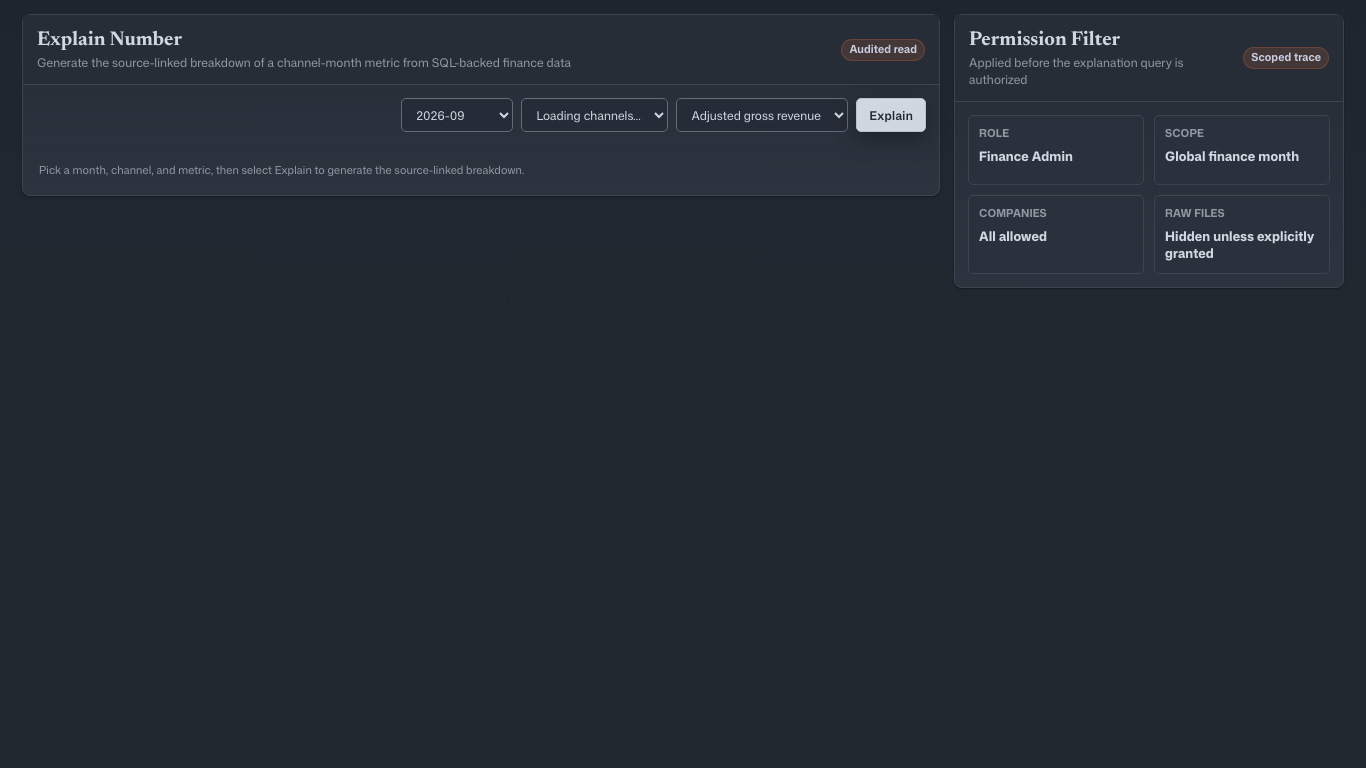
TraceView wired to the explain endpoint › renders a real-shaped NET explanation: value, formula, component split, confidence, and warnings
The image size is (1366, 768).
Note: Select the net metric, then Explain.
Select "Net revenue" in the dropdown named "Metric": (762, 115) [676,98,848,132]
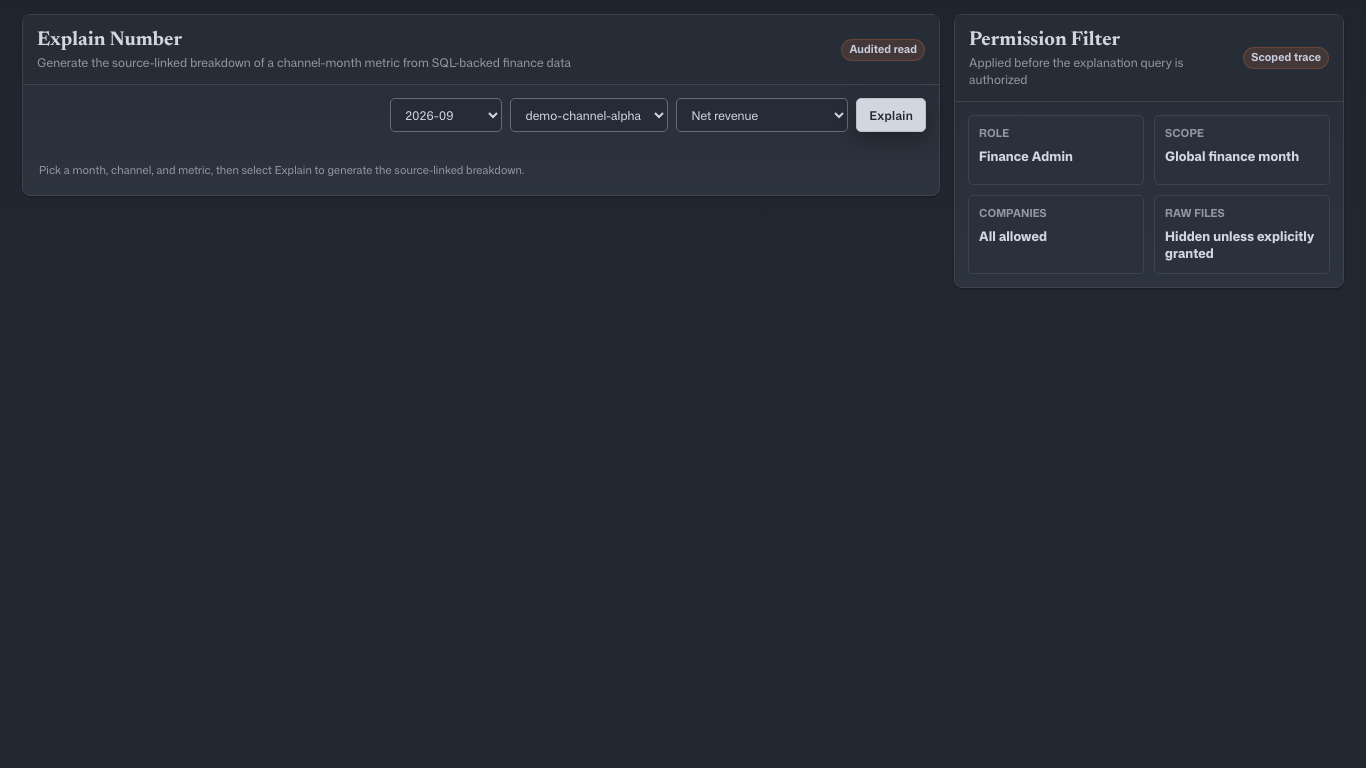
Note: Wait for the button to enable (channel list resolved) before clicking.
Click the button "Explain": click(891, 115) [856,98,926,132]
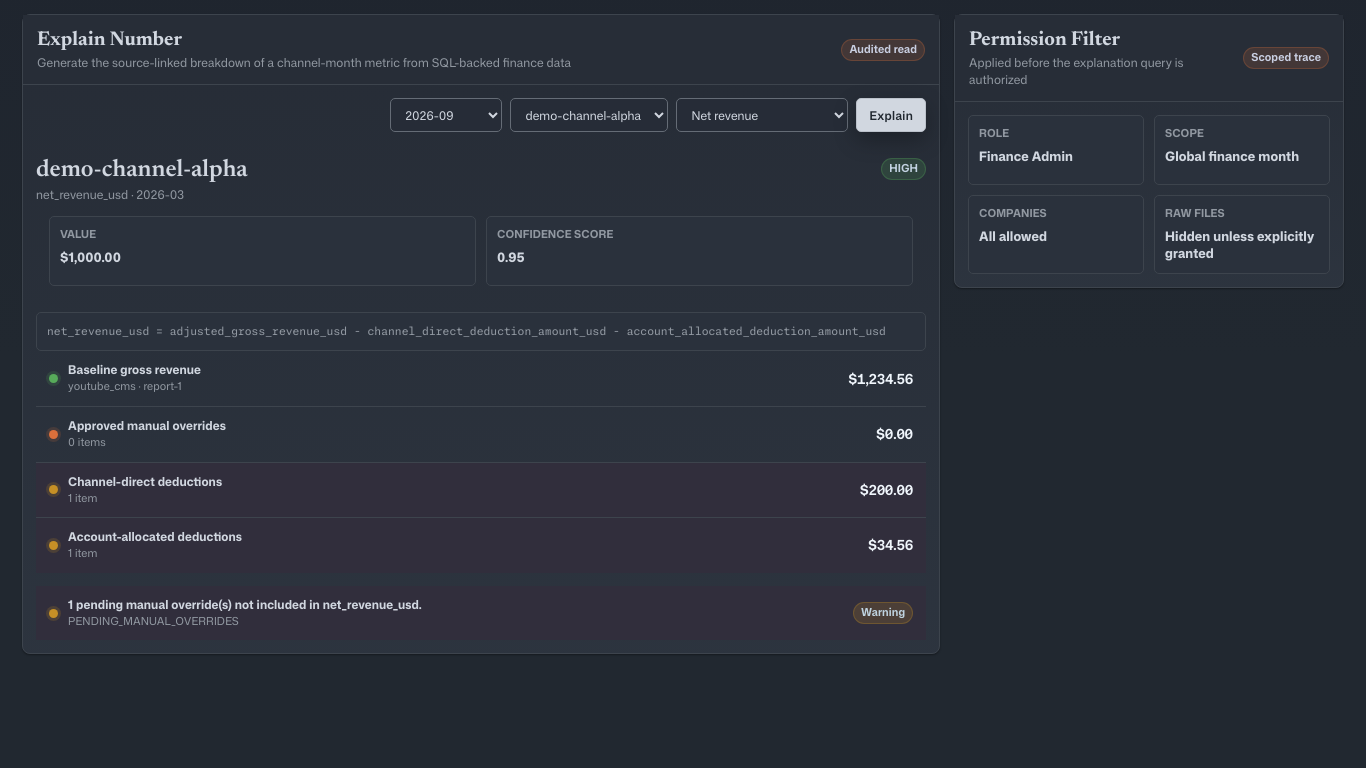
Expected: the text "$1,000.00" is shown, [60,248,121,266]
Expected: the text named "Metric formula" shows "net_revenue_usd = adjusted_gross_revenue_usd", [47,325,886,337]
Expected: the text "0.95" is shown, [497,248,524,266]
